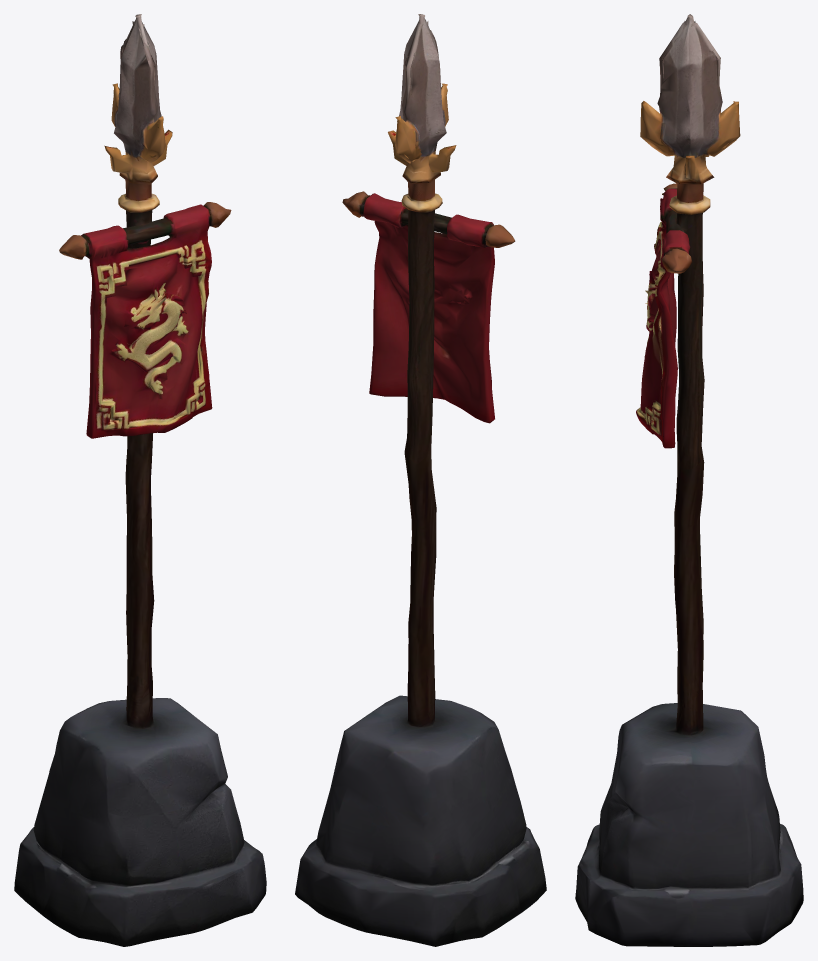
Rendered from tg_qisha.glb.
The picture shows the model from 3 angles, left to right: view 1: azimuth 30°, elevation 25°; view 2: azimuth 150°, elevation 25°; view 3: azimuth 270°, elevation 25°; orthographic projection.
Visible parts, largest first — view 1: tripo_node_148820a0-49df-4509-a7f7-8e2e5817a664; view 2: tripo_node_148820a0-49df-4509-a7f7-8e2e5817a664; view 3: tripo_node_148820a0-49df-4509-a7f7-8e2e5817a664.
Part boxes in pixels (box(x1,y1,x2,y2)): tripo_node_148820a0-49df-4509-a7f7-8e2e5817a664: box(14, 14, 266, 946); tripo_node_148820a0-49df-4509-a7f7-8e2e5817a664: box(295, 14, 546, 946); tripo_node_148820a0-49df-4509-a7f7-8e2e5817a664: box(575, 14, 803, 946).
Bounding box in the file's own units: 0.2271 × 0.9769 × 0.2287.
1 material, 1 textured.
